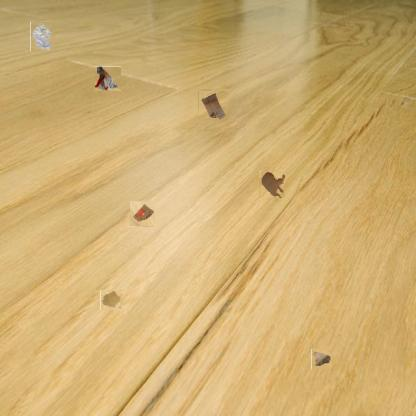dirty: (198, 90, 228, 122), (30, 21, 53, 51), (95, 66, 121, 91), (130, 201, 154, 226), (312, 349, 332, 370)
liquid: (260, 170, 286, 198), (100, 290, 123, 310)
